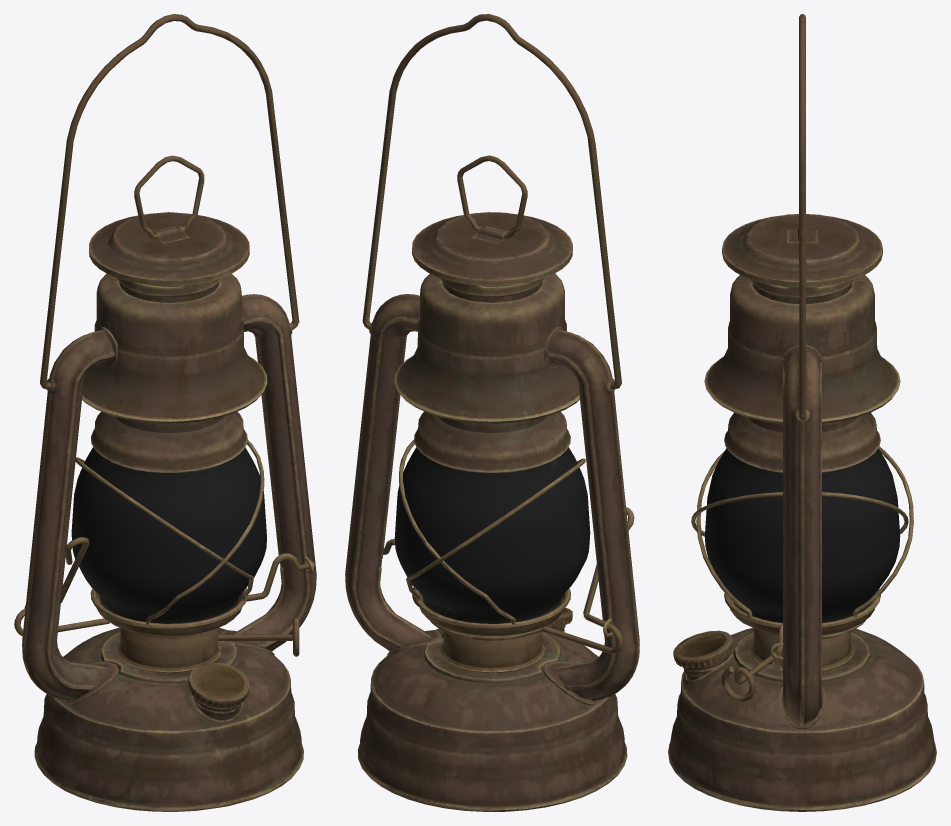
Rendered from Lantern_01.glb.
3 renders of one model, left to right at view 1: azimuth 30°, elevation 25°; view 2: azimuth 150°, elevation 25°; view 3: azimuth 270°, elevation 25°, orthographic.
Parts seen in each view (by area): view 1: lantern_01_lod0; view 2: lantern_01_lod0; view 3: lantern_01_lod0.
Boxes of the visible parts, <box> form: lantern_01_lod0: <box>14,14,316,811</box>; lantern_01_lod0: <box>345,14,639,811</box>; lantern_01_lod0: <box>668,14,936,811</box>.
Size of what is drawn, in the model's own units: 0.1221 by 0.2942 by 0.0971.
2 materials, 2 textured.
